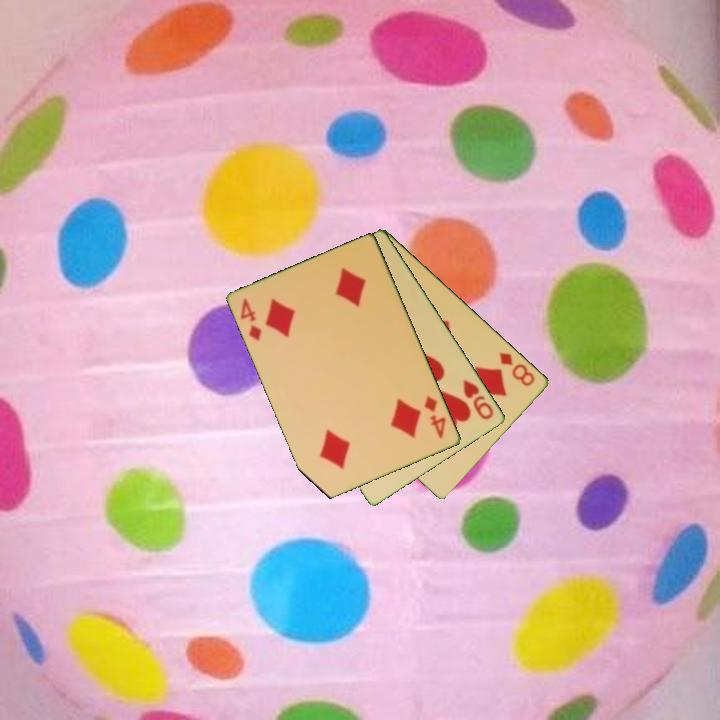4d: (421, 392, 449, 442), (237, 294, 265, 344)
8d: (496, 349, 538, 389)
9h: (460, 376, 497, 423)
